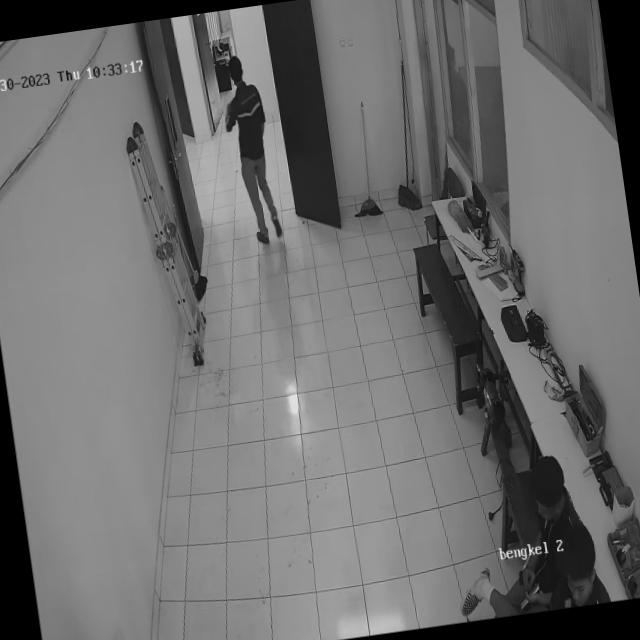person: (218, 45, 289, 248)
